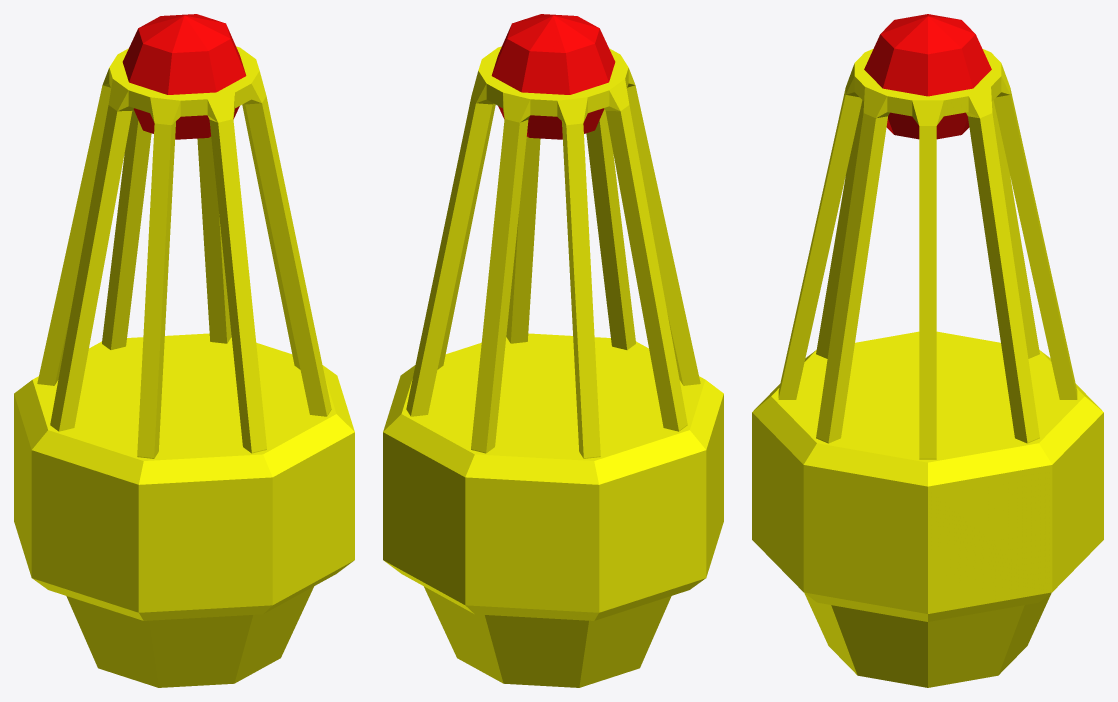
File: Bouy.fbx
3 views of the same model, side by side, from view 1: azimuth 30°, elevation 25°; view 2: azimuth 150°, elevation 25°; view 3: azimuth 270°, elevation 25° (orthographic).
Visible parts, largest first — view 1: Circle.016; view 2: Circle.016; view 3: Circle.016.
Boxes of the visible parts, bbox=[...] form: Circle.016: bbox=[14, 14, 354, 687]; Circle.016: bbox=[383, 14, 723, 687]; Circle.016: bbox=[752, 14, 1103, 687].
Size of the model in its own units: 10 by 20.92 by 10.
